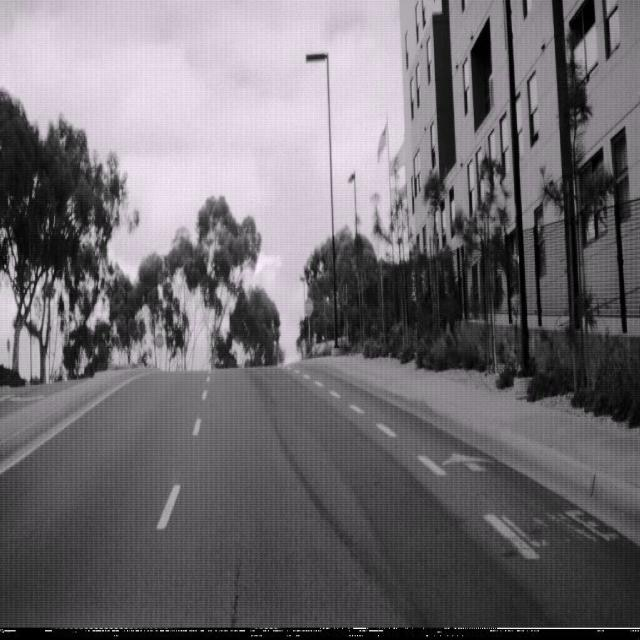stop: (303, 297, 313, 316), (155, 332, 164, 350)
